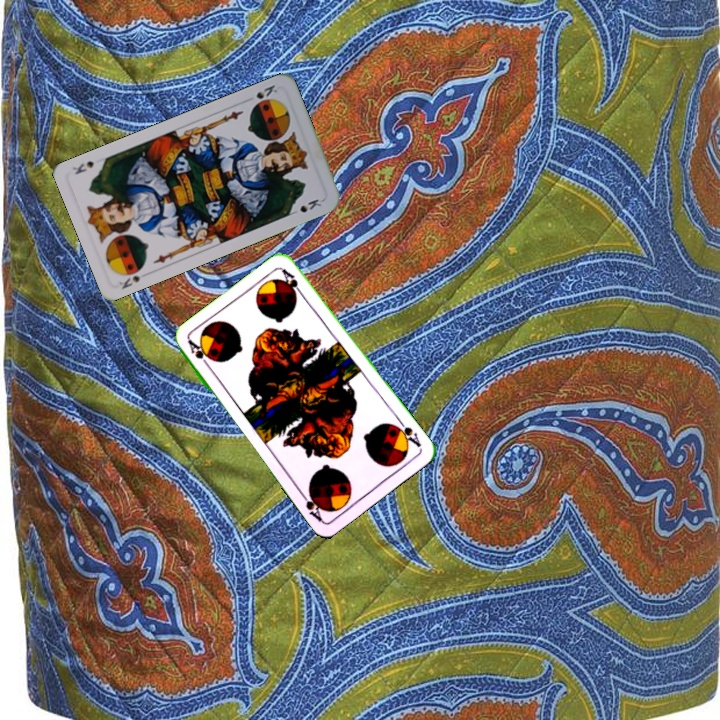SA: (389, 415, 424, 450), (184, 336, 214, 372)
SK: (115, 263, 152, 292), (252, 81, 280, 102)
